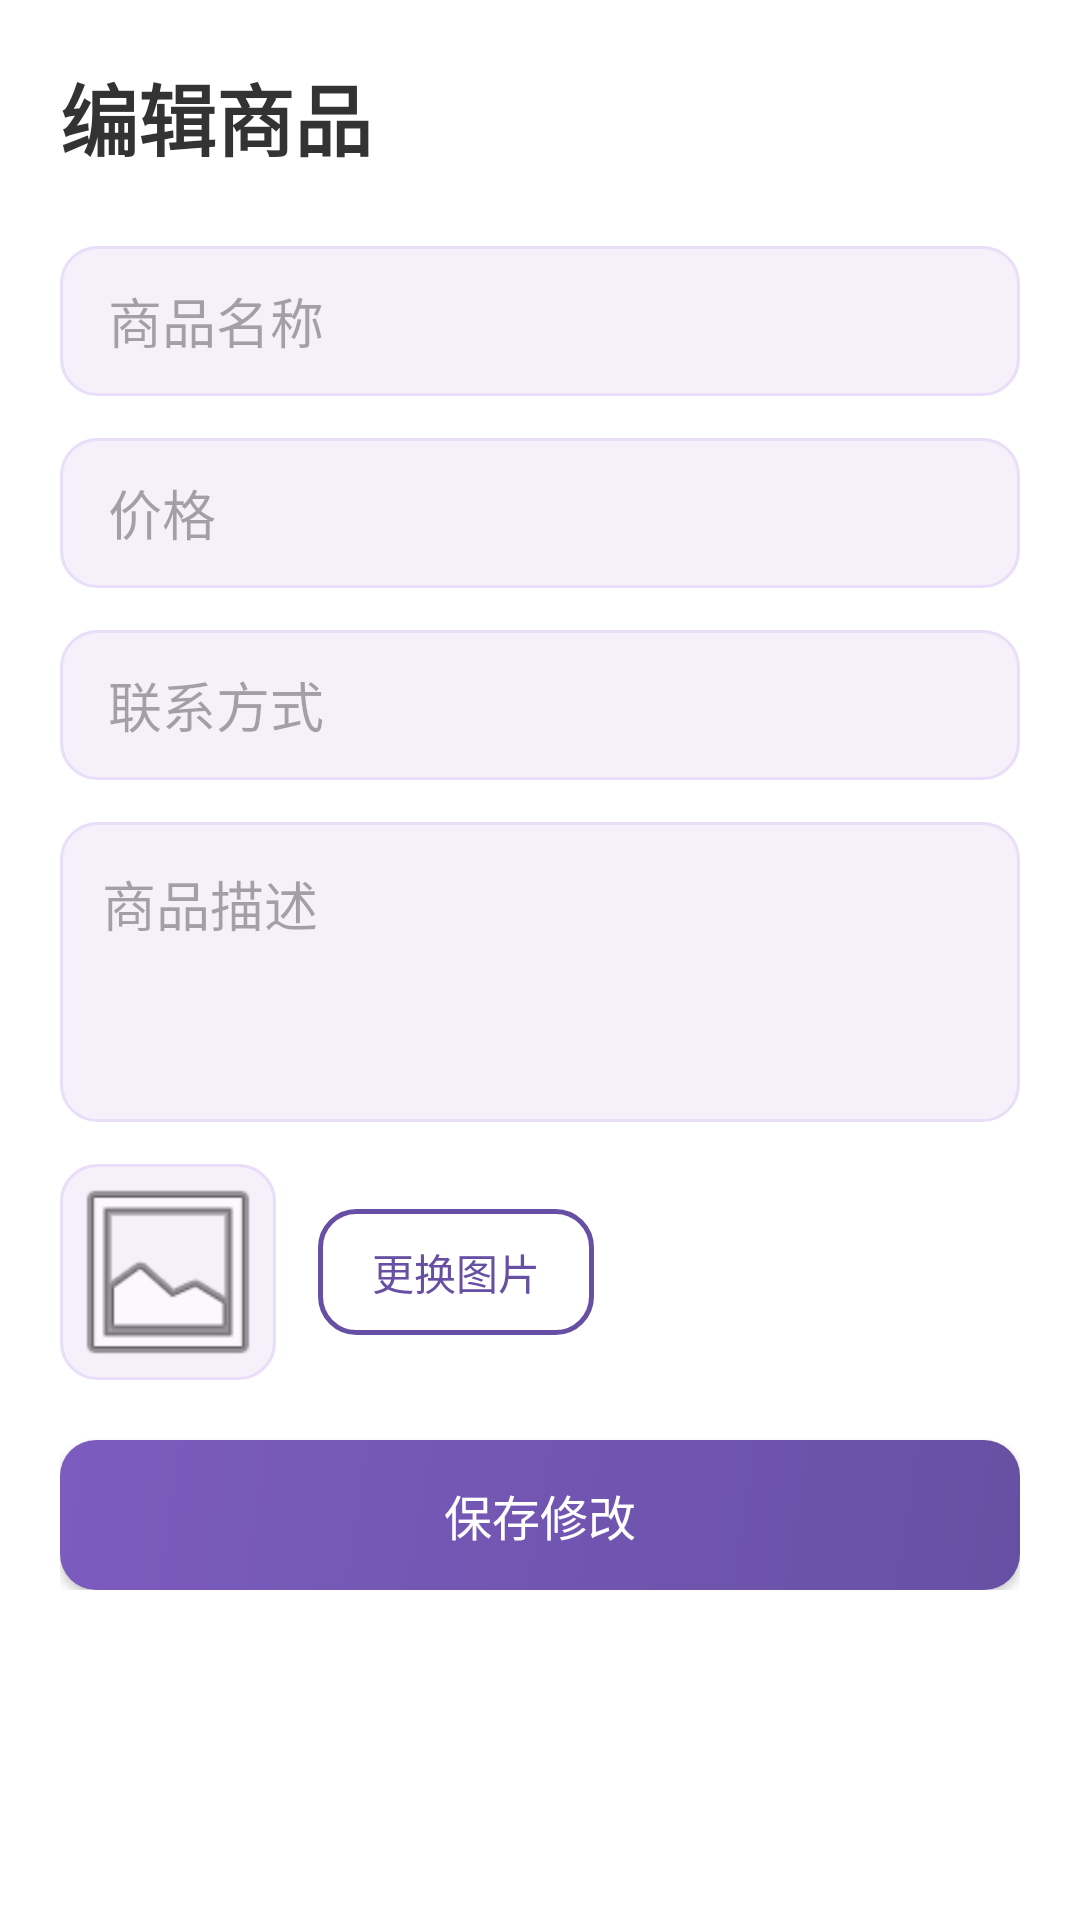

Screen size 1080x1920. Icon name, then its center in pixels as point (x, y):
gallery: point (168, 1272)
